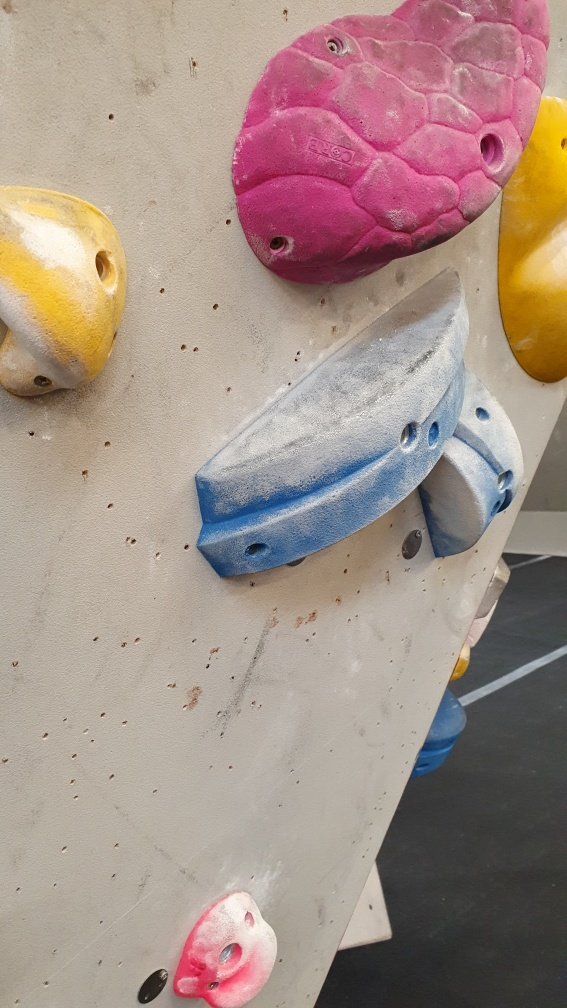Hand Start: (399, 523, 422, 562)
Pinch: (193, 268, 472, 588), (420, 373, 524, 557)
